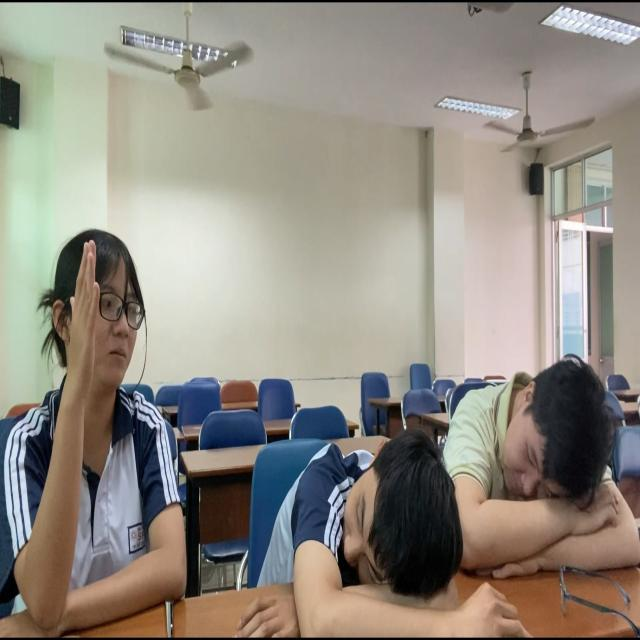raise_hand: (6, 220, 184, 629)
sleep: (237, 423, 515, 640), (418, 367, 640, 577)
